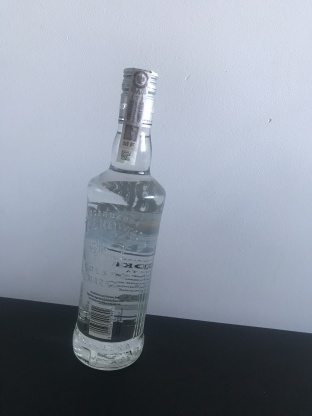nakretka: (115, 64, 160, 131)
